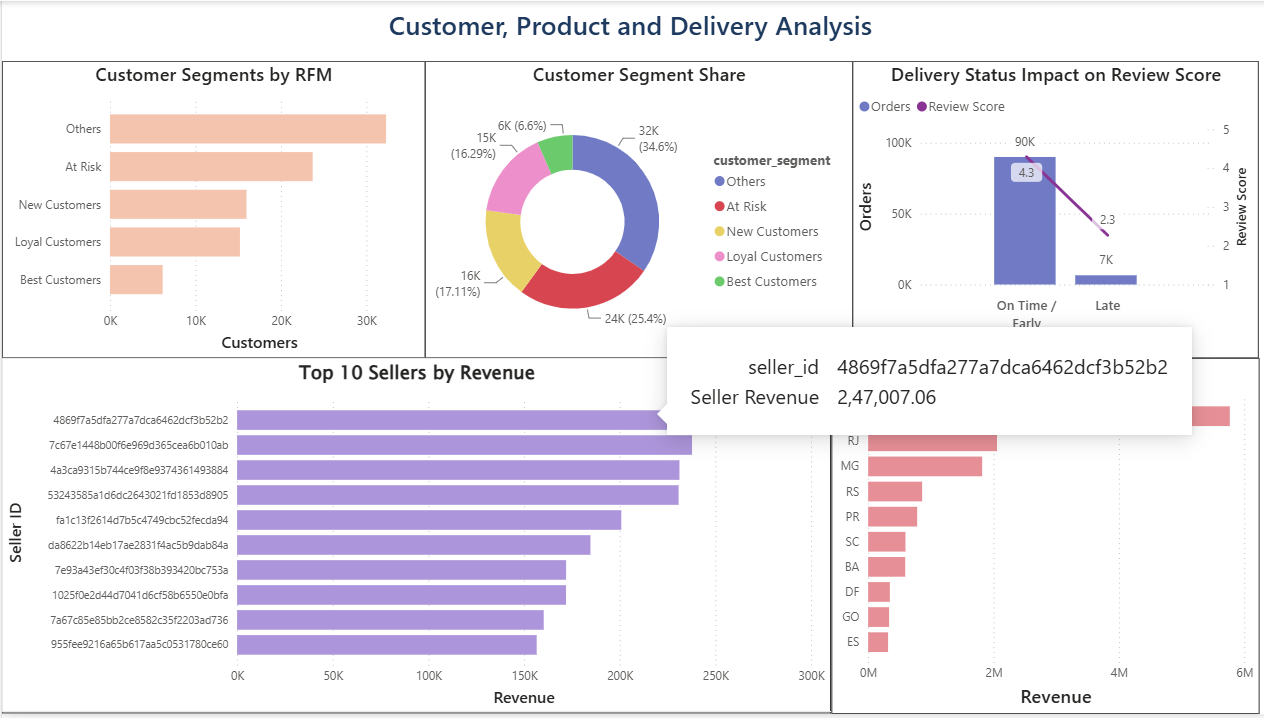

The page's visual inventory and layout, read from the dashboard file:
{"tool":"powerbi","page":{"name":"Customer, Product & Delivery Analysis","canvas":[1280,720],"ordinal":2},"visuals":[{"type":"textbox","box":[10,0,280,280],"z":0},{"type":"textbox","box":[0,0,1268.9,80.3],"z":1000},{"type":"clusteredBarChart","title":"Customer Segments by RFM","fields":{"Y":["rfm_segment_counts.Total RFM Customers"],"Category":["rfm_segment_summary.customer_segment"]},"box":[0,60,427,300],"z":2000},{"type":"donutChart","title":"Customer Segment Share","fields":{"Y":["rfm_segment_counts.Total RFM Customers"],"Category":["rfm_segment_summary.customer_segment"]},"box":[426.7,60,431.7,300],"z":3000},{"type":"clusteredBarChart","title":"Top 10 Sellers by Revenue","fields":{"Category":["seller_performance.seller_id"],"Y":["seller_performance.Seller Revenue"]},"box":[0,360,836.7,358.3],"z":4000},{"type":"clusteredBarChart","title":"Top 10 States by Revenue","fields":{"Y":["customer_state_analysis.State Revenue"],"Category":["customer_state_analysis.customer_state"]},"box":[836.7,360,431.7,359],"z":5000},{"type":"lineClusteredColumnComboChart","title":"Delivery Status Impact on Review Score","fields":{"Category":["delivery_performance.delivery_status"],"Y":["delivery_performance.Delivery Orders"],"Y2":["delivery_performance.Delivery Avg Review"]},"box":[858.3,60,410,300],"z":6000}]}

Visuals, with their boxes in screenshot pixels (x1, y1, x2, y2), scaled from the page's 1280x720 canvas onto the 1264x718 screenshot:
textbox: left=10, top=0, right=286, bottom=279
textbox: left=0, top=0, right=1253, bottom=80
"Customer Segments by RFM" clusteredBarChart: left=0, top=60, right=422, bottom=359
"Customer Segment Share" donutChart: left=421, top=60, right=848, bottom=359
"Top 10 Sellers by Revenue" clusteredBarChart: left=0, top=359, right=826, bottom=716
"Top 10 States by Revenue" clusteredBarChart: left=826, top=359, right=1253, bottom=717
"Delivery Status Impact on Review Score" lineClusteredColumnComboChart: left=848, top=60, right=1252, bottom=359
